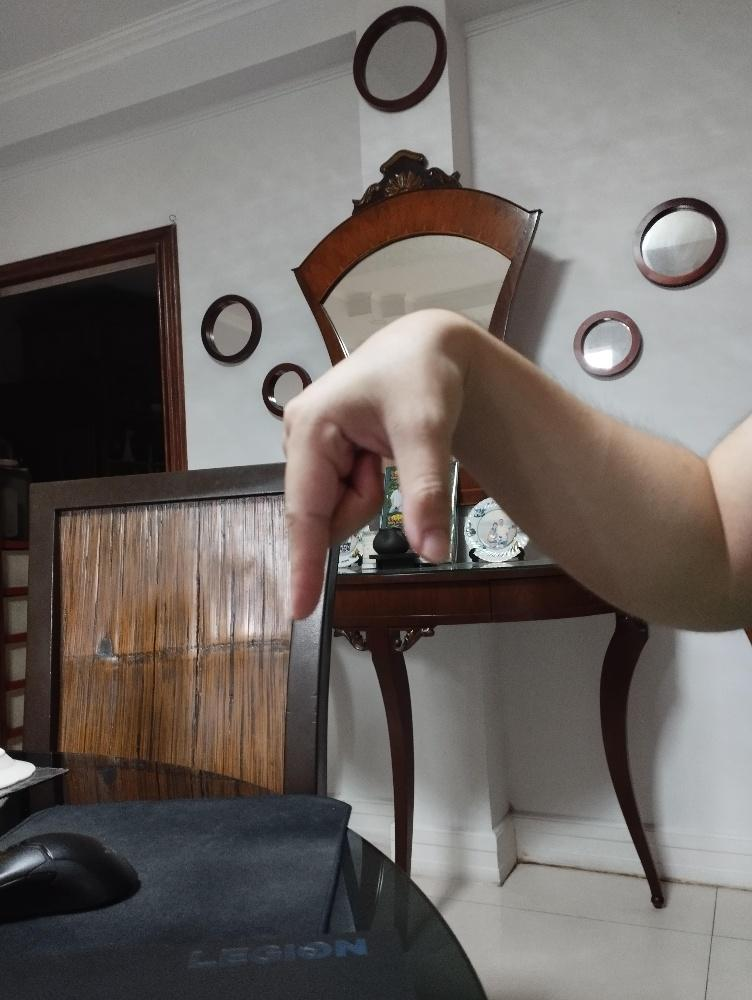q: (279, 304, 471, 624)
